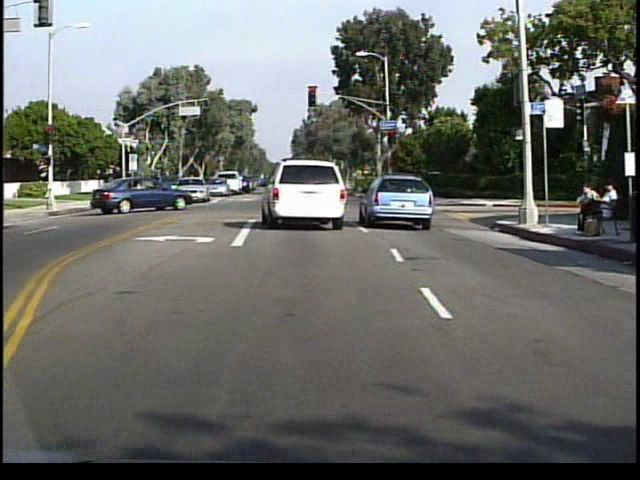person: (592, 178, 620, 240), (572, 179, 602, 236)
